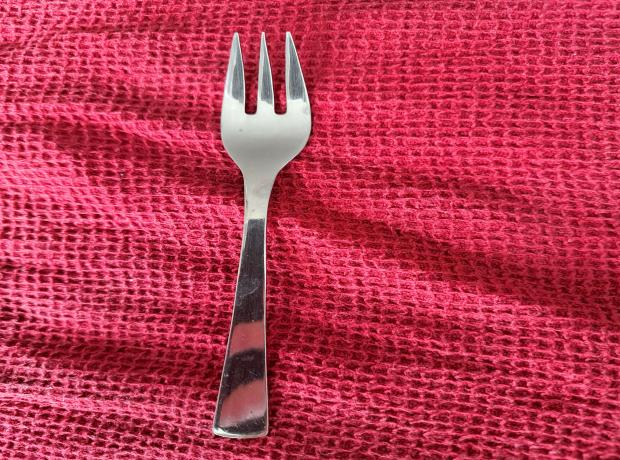metal: (205, 30, 316, 440)
